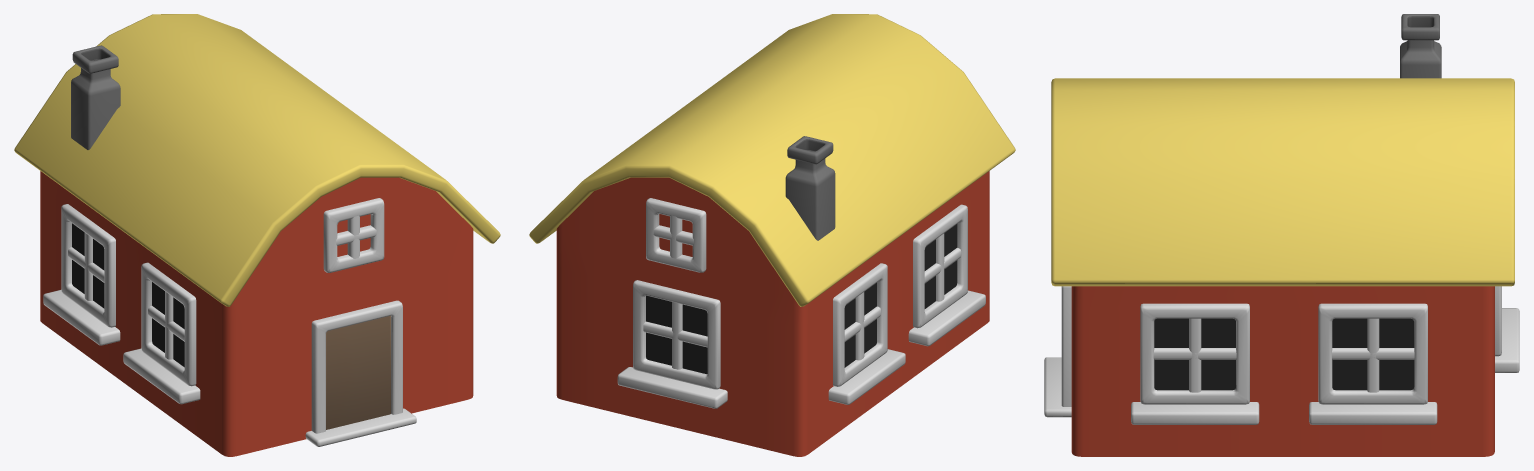
Rendered from House_01.fbx.
3 views of the same model, side by side, from view 1: azimuth 30°, elevation 25°; view 2: azimuth 150°, elevation 25°; view 3: azimuth 270°, elevation 25° (orthographic). The views are drawn at different scales.
Visible parts, largest first — view 1: House_01; view 2: House_01; view 3: House_01.
Part boxes in pixels (bbox=[...]): House_01: bbox=[14, 14, 500, 456]; House_01: bbox=[529, 14, 1015, 456]; House_01: bbox=[1044, 14, 1519, 456].
Bounding box in the file's own units: 3783 × 3517 × 4819.
